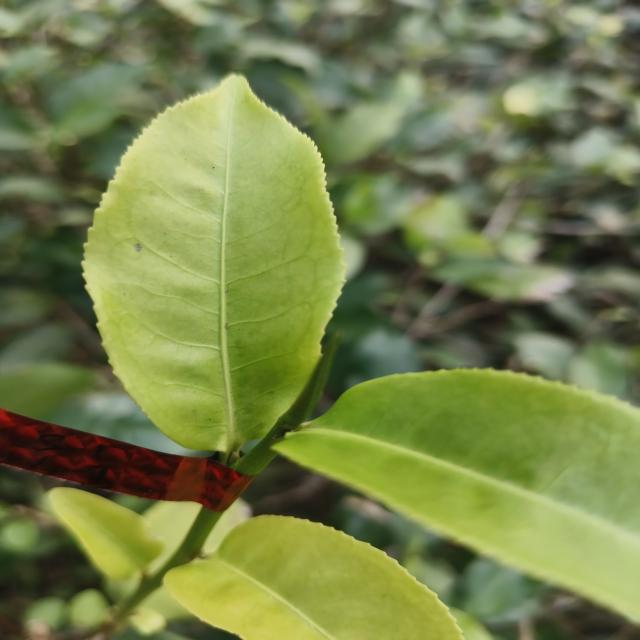Leaf: (84, 76, 345, 453), (275, 369, 640, 622), (164, 515, 462, 640), (48, 488, 164, 579)
